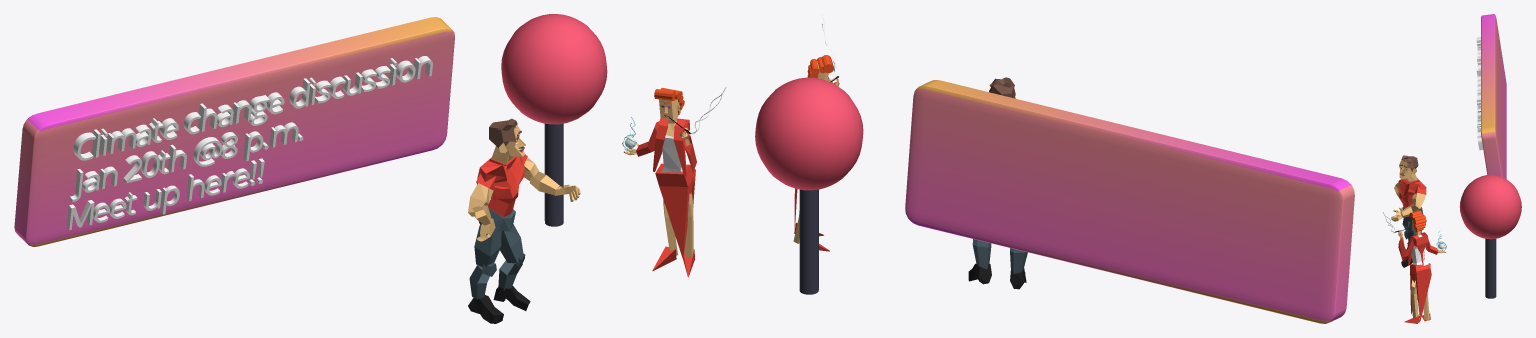
Rendered from climate change.obj.
The picture shows the model from 3 angles, left to right: view 1: azimuth 30°, elevation 25°; view 2: azimuth 150°, elevation 25°; view 3: azimuth 270°, elevation 25°; orthographic projection. The views are drawn at different scales.
Parts seen in each view (by area): view 1: 048_Rectagle_with_bevel, 066_Pin, 061_Buffer_Layer, 053_Buffer_Layer, 052_Buffer_Layer, 050_Buffer_Layer, 067_Metal_stick, 058_Buffer_Layer, 051_Buffer_Layer, 049_Buffer_Layer, 019_@, 062_Buffer_Layer; view 2: 048_Rectagle_with_bevel, 066_Pin, 067_Metal_stick, 053_Buffer_Layer, 051_Buffer_Layer, 065_Buffer_Layer; view 3: 048_Rectagle_with_bevel, 066_Pin, 061_Buffer_Layer, 052_Buffer_Layer, 067_Metal_stick, 050_Buffer_Layer, 058_Buffer_Layer, 065_Buffer_Layer, 053_Buffer_Layer, 062_Buffer_Layer, 049_Buffer_Layer.
Part boxes in pixels (<box>): 048_Rectagle_with_bevel: <box>14,17,454,246</box>; 066_Pin: <box>501,14,607,124</box>; 061_Buffer_Layer: <box>624,110,696,277</box>; 053_Buffer_Layer: <box>469,205,525,299</box>; 052_Buffer_Layer: <box>468,125,580,241</box>; 050_Buffer_Layer: <box>476,154,527,216</box>; 067_Metal_stick: <box>544,123,563,226</box>; 058_Buffer_Layer: <box>625,99,693,257</box>; 051_Buffer_Layer: <box>468,285,530,323</box>; 049_Buffer_Layer: <box>489,118,524,150</box>; 019_@: <box>193,137,222,166</box>; 062_Buffer_Layer: <box>661,120,690,172</box>; 048_Rectagle_with_bevel: <box>905,80,1354,323</box>; 066_Pin: <box>755,77,863,190</box>; 067_Metal_stick: <box>799,189,818,294</box>; 053_Buffer_Layer: <box>972,239,1027,273</box>; 051_Buffer_Layer: <box>968,263,1026,289</box>; 065_Buffer_Layer: <box>807,55,833,78</box>; 048_Rectagle_with_bevel: <box>1481,14,1506,178</box>; 066_Pin: <box>1459,175,1521,239</box>; 061_Buffer_Layer: <box>1398,227,1445,323</box>; 052_Buffer_Layer: <box>1391,160,1425,221</box>; 067_Metal_stick: <box>1485,239,1496,298</box>; 050_Buffer_Layer: <box>1398,178,1426,209</box>; 058_Buffer_Layer: <box>1398,220,1445,320</box>; 065_Buffer_Layer: <box>1409,210,1426,231</box>; 053_Buffer_Layer: <box>1402,206,1423,243</box>; 062_Buffer_Layer: <box>1411,235,1428,265</box>; 049_Buffer_Layer: <box>1399,155,1418,175</box>.
Size of the model in its own units: 441 by 171 by 150.
Materials: 21 (3 with a texture image).
